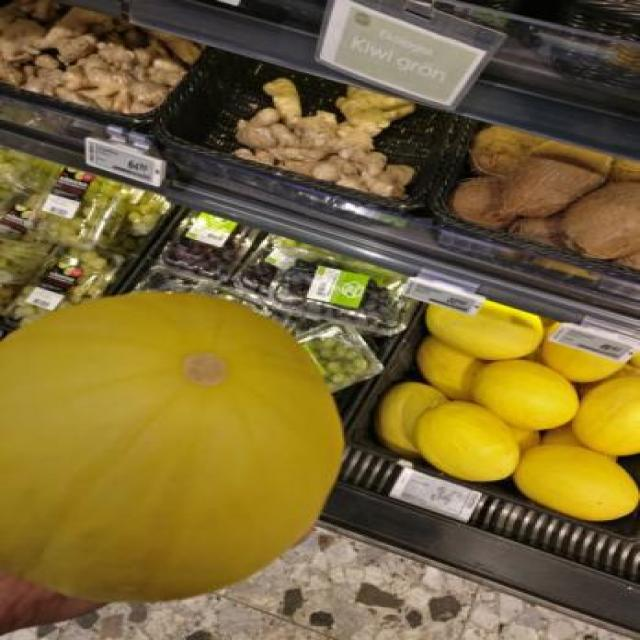Honeydew: (0, 294, 340, 601), (513, 448, 638, 526), (405, 403, 515, 480), (423, 291, 544, 357), (470, 359, 576, 426)
